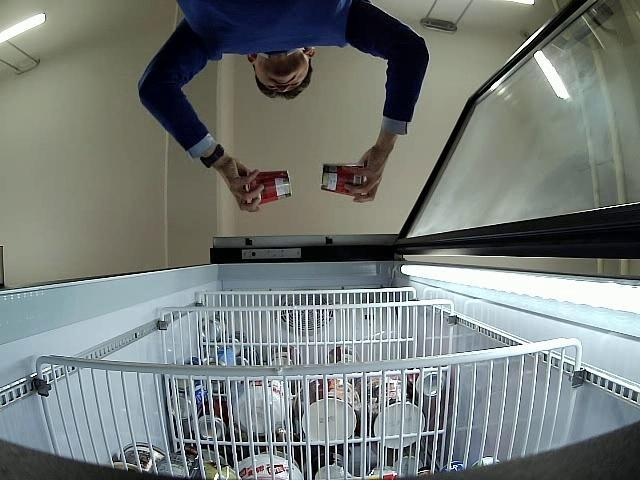02_shinRamen_S: (248, 169, 292, 204), (320, 164, 363, 196)
